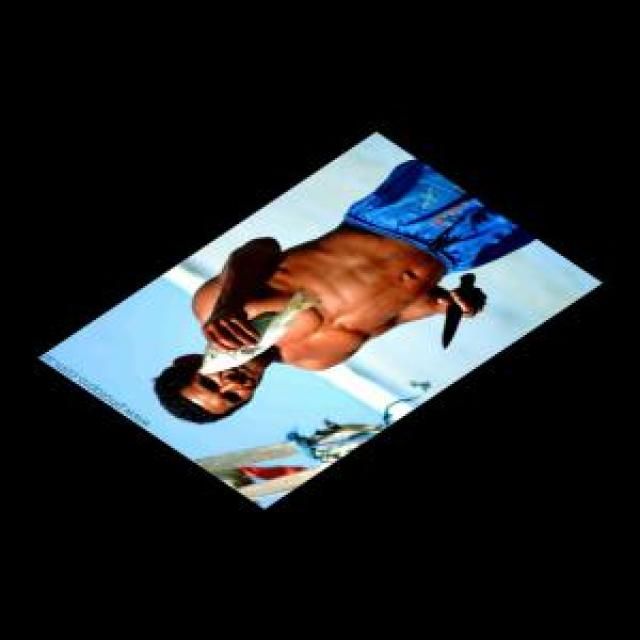knife: (442, 269, 476, 356)
